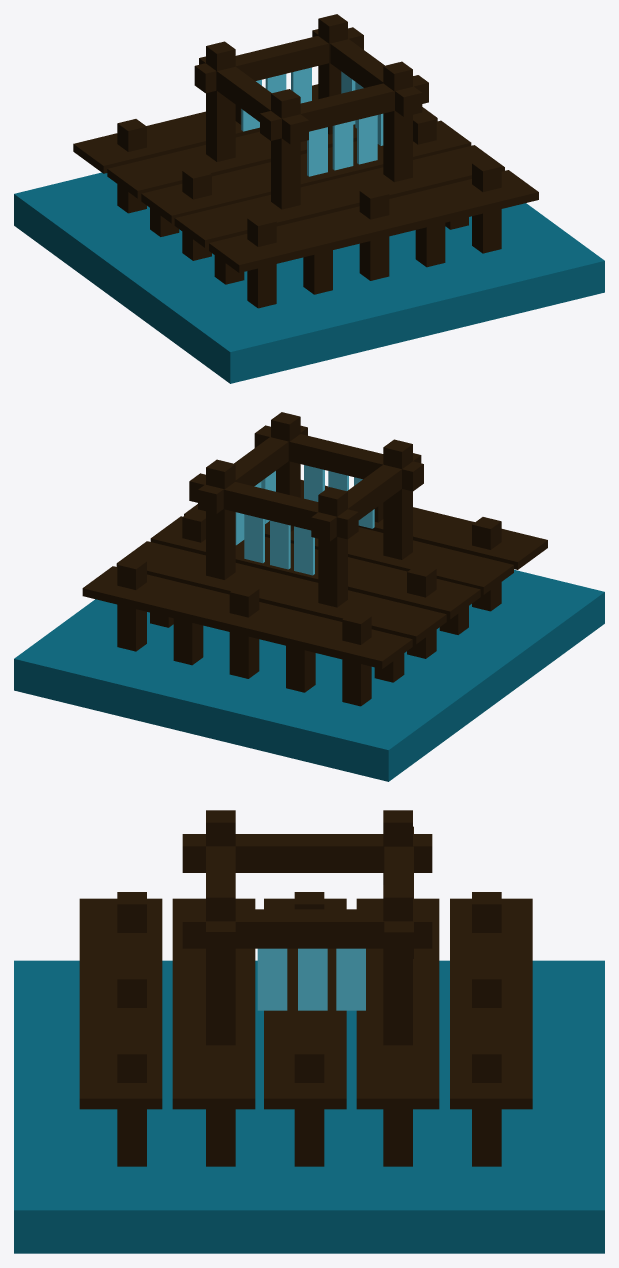
Rendered from Fishery3.obj.
3 renders of one model, top to bottom at view 1: azimuth 30°, elevation 25°; view 2: azimuth 150°, elevation 25°; view 3: azimuth 270°, elevation 25°, orthographic. The views are drawn at different scales.
Parts seen in each view (by area): view 1: Tilebase115, Box791, Box792, Box793, Box794, Box795, Box800, Box801, Box774, Box798, Box799, Box802 (+15 smaller); view 2: Tilebase115, Box795, Box794, Box793, Box792, Box791, Box801, Box800, Box796, Box799, Box798, Box802 (+16 smaller); view 3: Tilebase115, Box791, Box795, Box792, Box794, Box793, Box803, Box802, Box796, Box774, Box776, Box779 (+14 smaller).
Part boxes in pixels (bbox=[...]): Tilebase115: bbox=[14, 172, 604, 383]; Box791: bbox=[209, 170, 538, 272]; Box792: bbox=[174, 145, 504, 247]; Box793: bbox=[141, 120, 471, 223]; Box794: bbox=[107, 107, 437, 198]; Box795: bbox=[73, 84, 318, 173]; Box800: bbox=[260, 75, 428, 140]; Box801: bbox=[194, 27, 363, 93]; Box774: bbox=[383, 61, 412, 181]; Box798: bbox=[271, 89, 300, 209]; Box799: bbox=[206, 41, 235, 161]; Box802: bbox=[199, 56, 308, 144]; Tilebase115: bbox=[14, 569, 604, 781]; Box795: bbox=[82, 566, 412, 668]; Box794: bbox=[116, 541, 446, 644]; Box793: bbox=[150, 516, 480, 619]; Box792: bbox=[184, 504, 513, 594]; Box791: bbox=[300, 480, 547, 569]; Box801: bbox=[189, 473, 358, 539]; Box800: bbox=[254, 425, 423, 491]; Box796: bbox=[206, 459, 235, 579]; Box799: bbox=[318, 487, 347, 607]; Box798: bbox=[383, 439, 412, 559]; Box802: bbox=[311, 453, 421, 541]; Tilebase115: bbox=[14, 960, 604, 1253]; Box791: bbox=[79, 898, 162, 1109]; Box795: bbox=[450, 898, 532, 1109]; Box792: bbox=[172, 898, 255, 1109]; Box794: bbox=[356, 898, 439, 1109]; Box793: bbox=[264, 898, 346, 1109]; Box803: bbox=[182, 909, 432, 948]; Box802: bbox=[182, 834, 432, 872]; Box796: bbox=[383, 885, 412, 1045]; Box774: bbox=[206, 885, 235, 1045]; Box776: bbox=[294, 1041, 324, 1166]; Box779: bbox=[472, 1041, 501, 1166].
Size of the model in its own units: 10 by 5.14 by 10.
